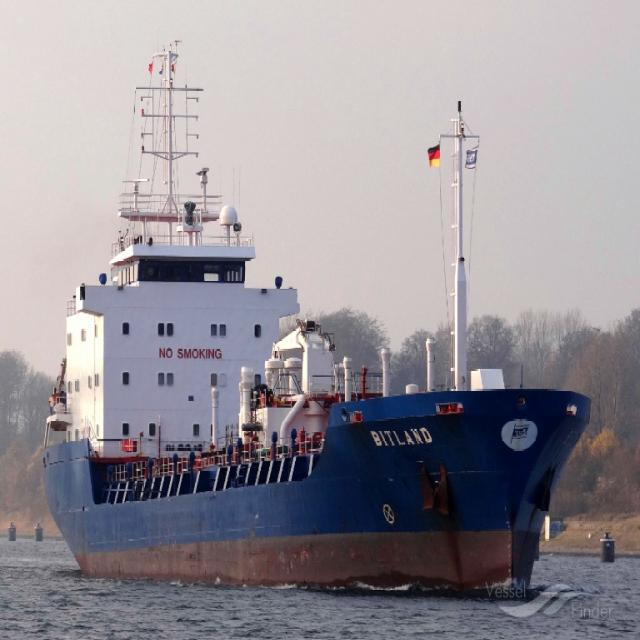OCR: (367, 425, 437, 451)
